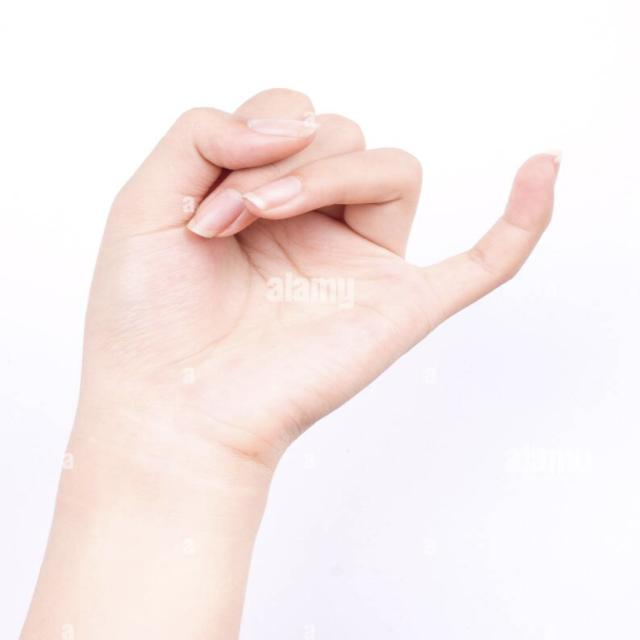pinky: (405, 139, 575, 314)
